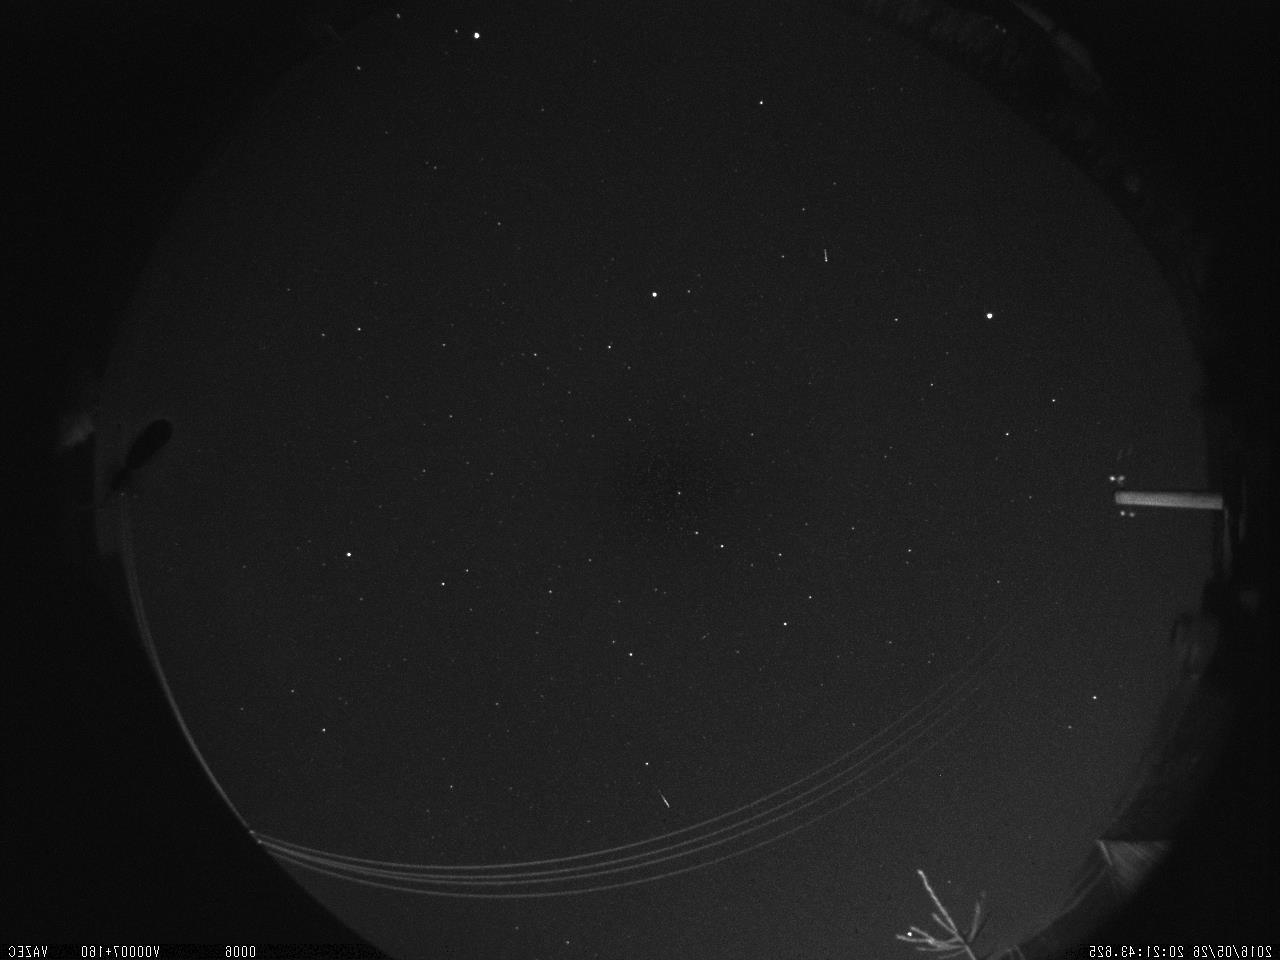meteor: (653, 776, 673, 815)
